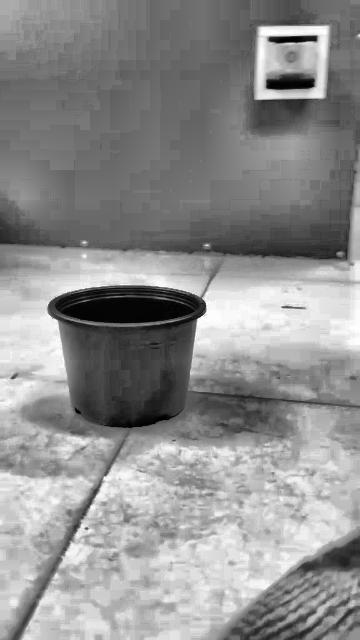pot: (48, 286, 205, 428)
